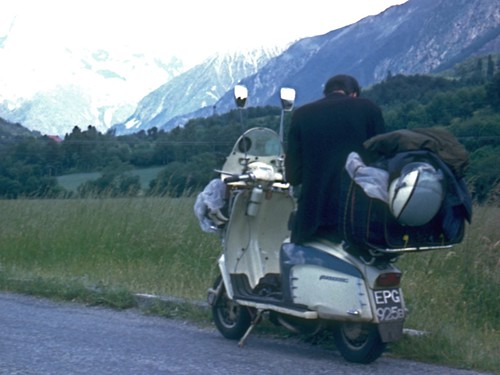helmet: (391, 166, 446, 227)
